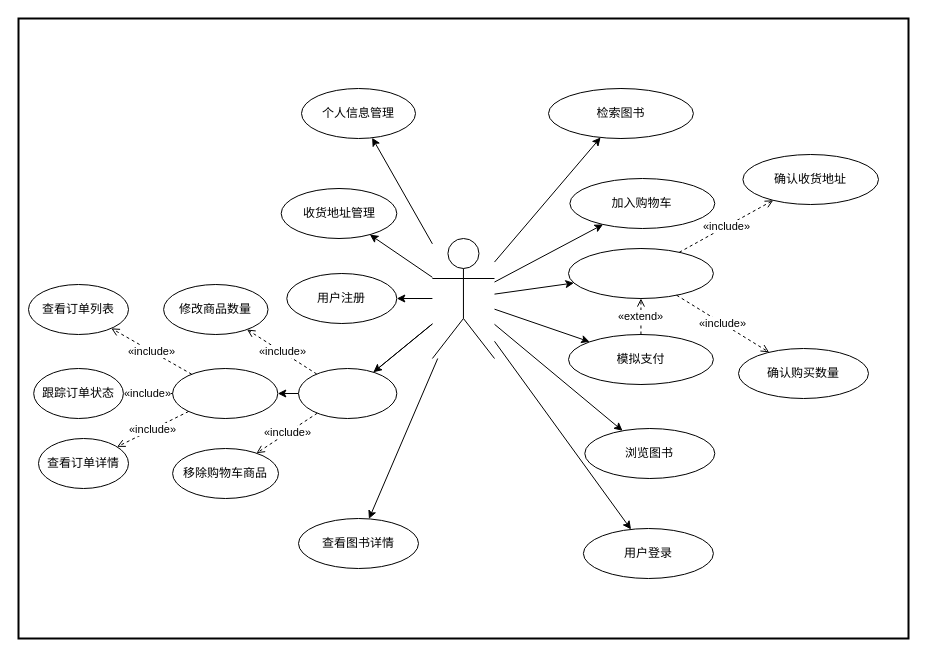
The diagram is 926 pixels wide and 656 high, and some of its shapes have lost their labels. Here are the shapes that lost their labels. From the top down, the box of each, then its label:
(568, 248, 713, 298): 创建订单
(431, 238, 494, 358): 注册用户
(172, 368, 278, 418): 订单管理
(298, 368, 397, 418): 购物车管理
